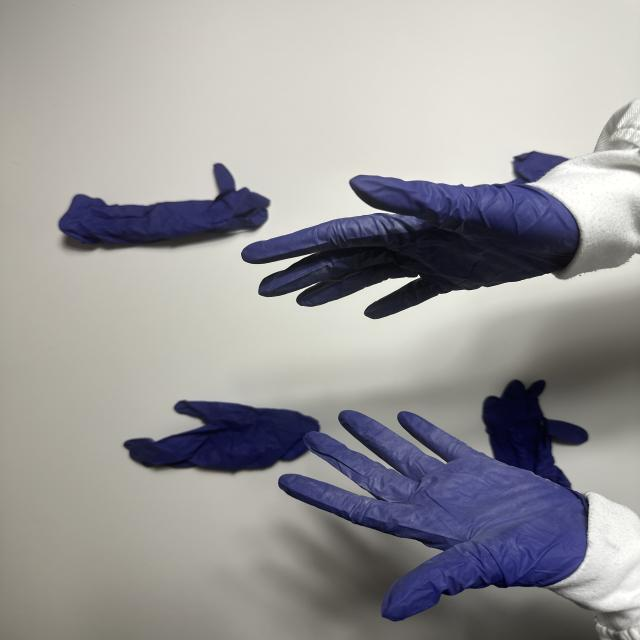gloves_contaminated: (279, 411, 586, 620), (243, 175, 578, 318)
